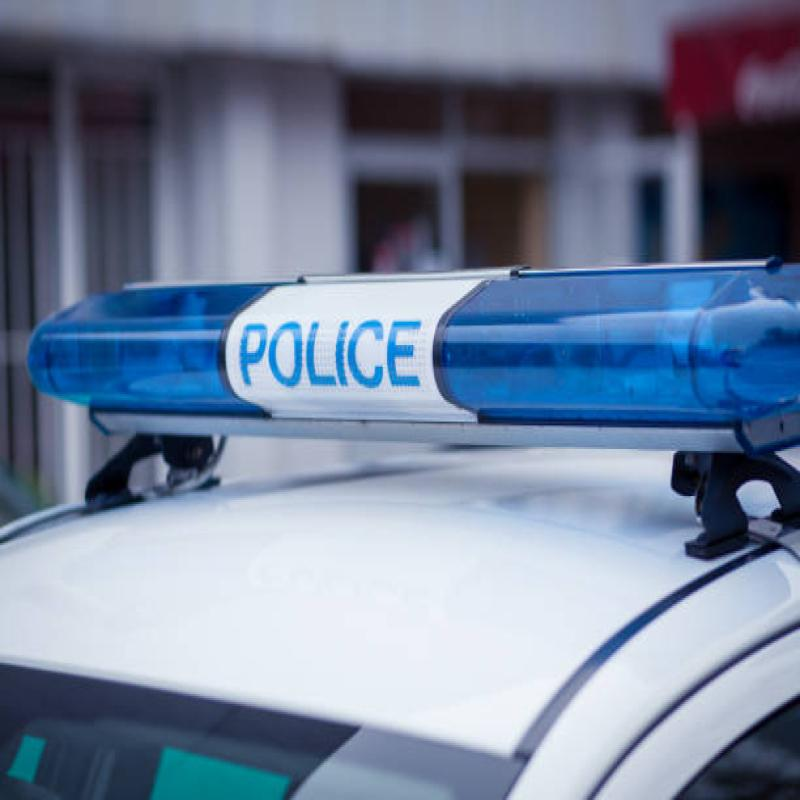AmbulanceSiren: (0, 250, 800, 451)
